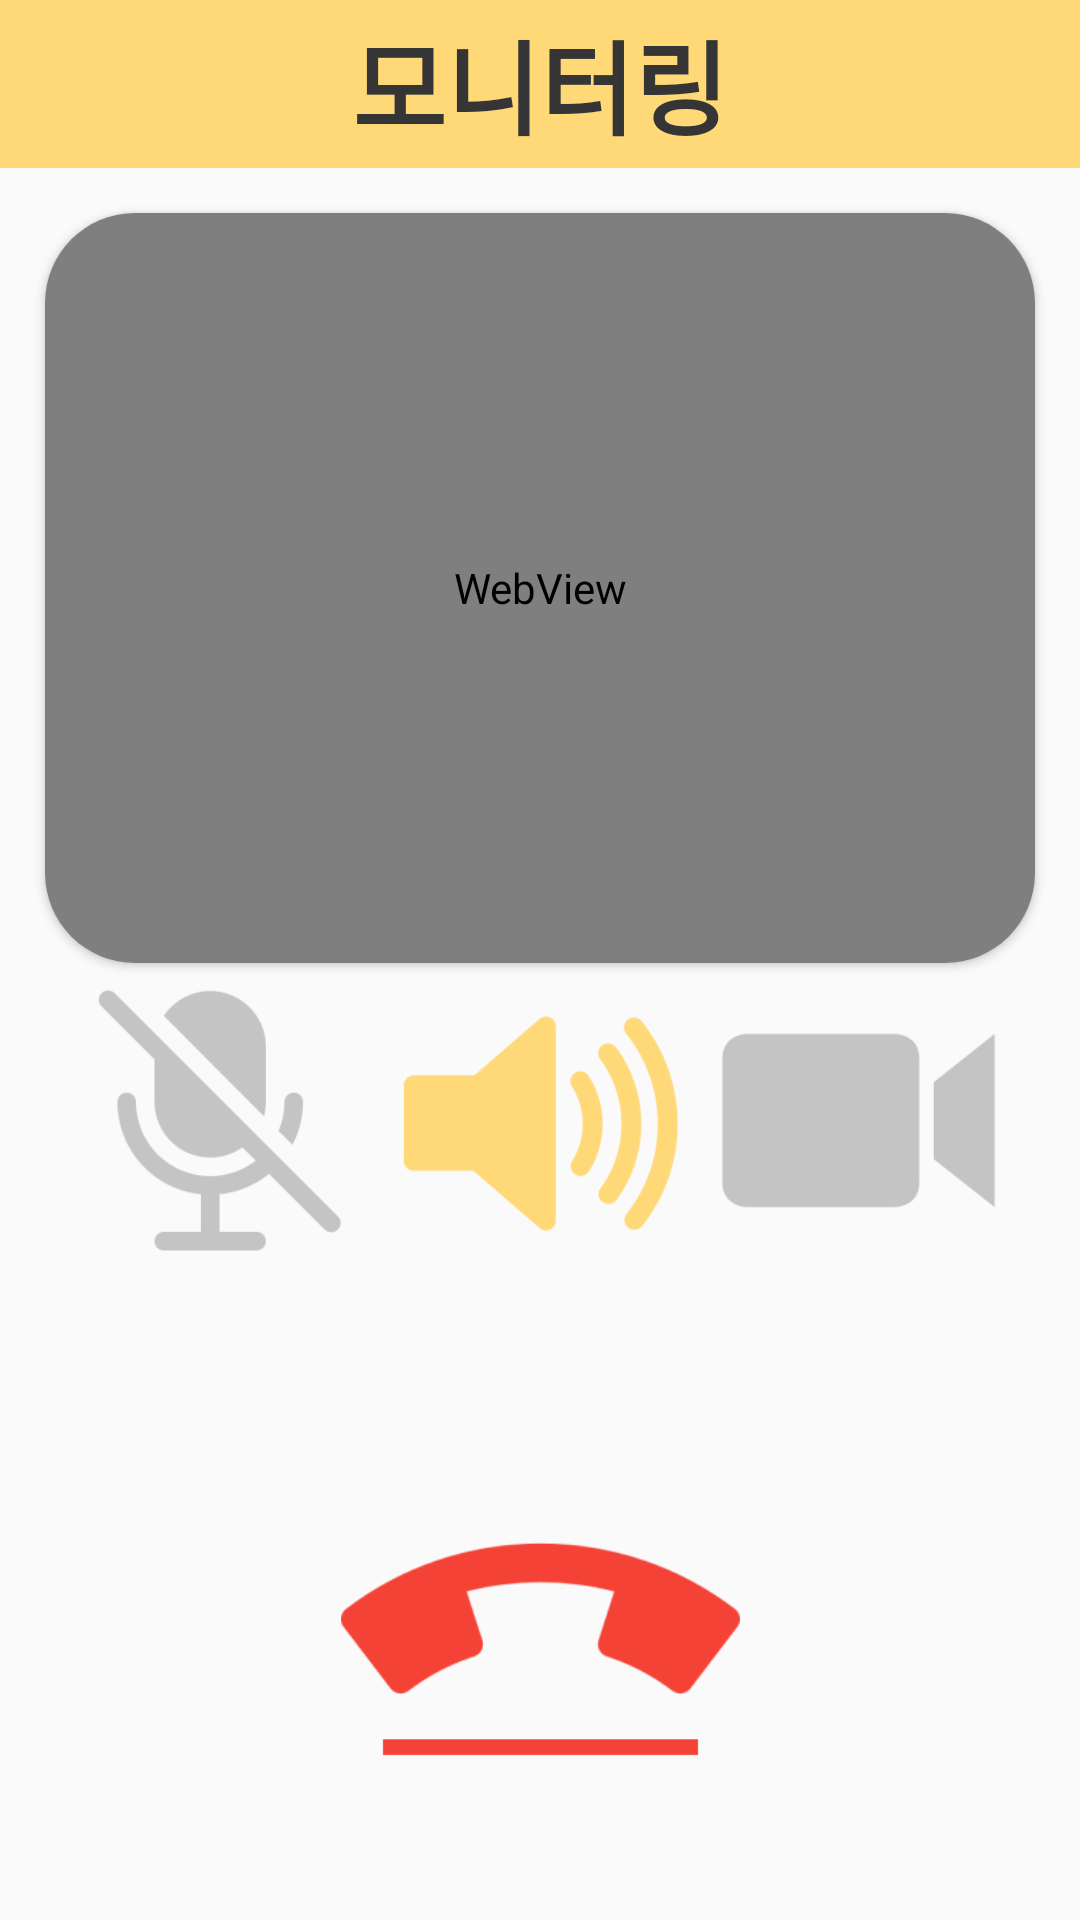

Screen size 1080px×1920px. Icon name, then its center in pixels as point (x, y):
mike: point (220, 1121)
rec: point (858, 1120)
speaker: point (541, 1123)
